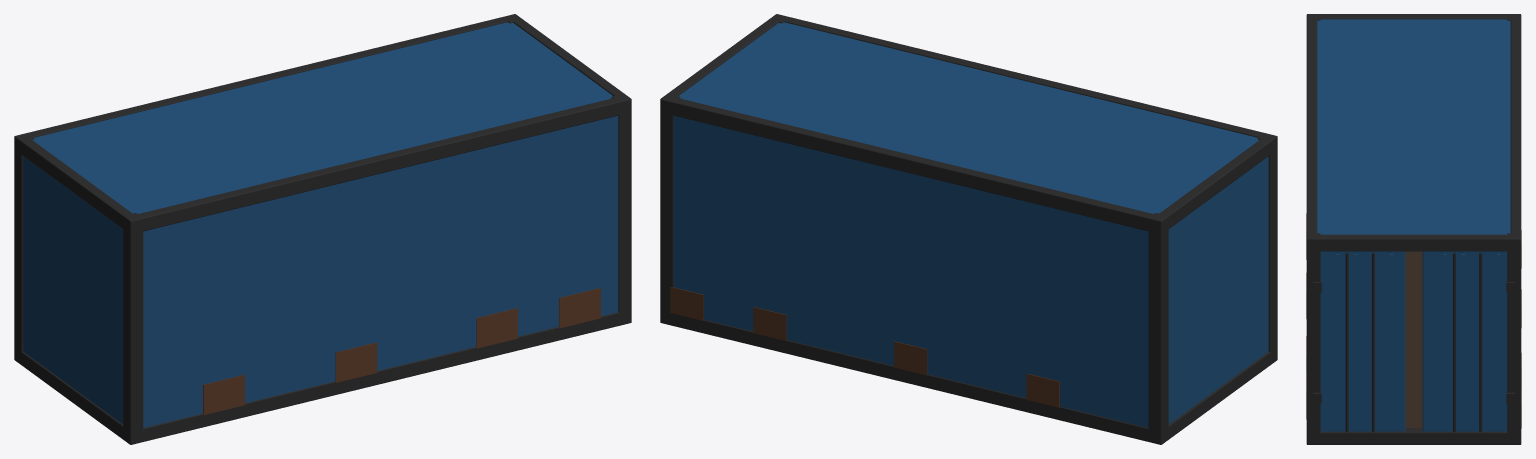
File: container_blue.glb
The picture shows the model from 3 angles, left to right: view 1: azimuth 30°, elevation 25°; view 2: azimuth 150°, elevation 25°; view 3: azimuth 270°, elevation 25°; orthographic projection. The views are drawn at different scales.
Parts seen in each view (by area): view 1: Cube.119; view 2: Cube.119; view 3: Cube.119.
Part boxes in pixels (box(x1,y1,x2,y2)): Cube.119: box(14, 14, 631, 444); Cube.119: box(660, 14, 1277, 444); Cube.119: box(1306, 14, 1521, 444).
Size of the model in its own units: 6.09 by 2.59 by 2.45.
